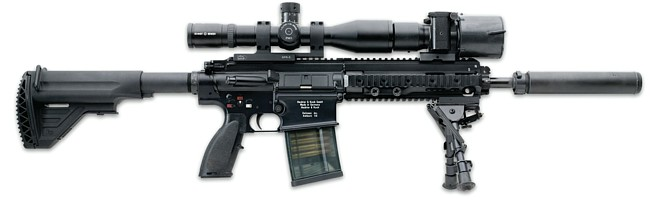Arma Real: (15, 2, 645, 190)
